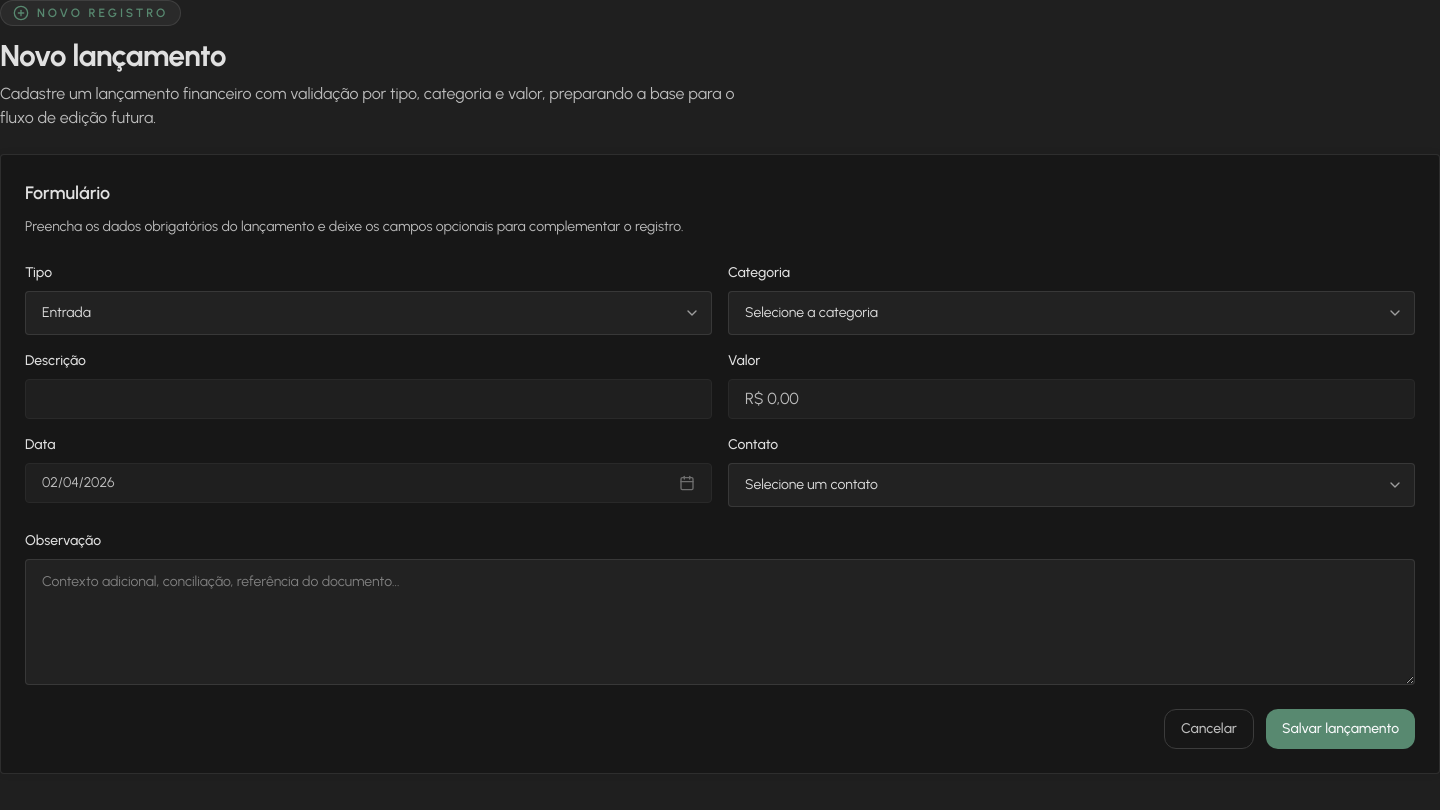
Test: <NewTransactionPage /> › exibe erros de validação quando o formulário é enviado incompleto
This screenshot has width=1440, height=810.
Click the button "Salvar lançamento": (1340, 729) x1=1266 y1=709 x2=1415 y2=749
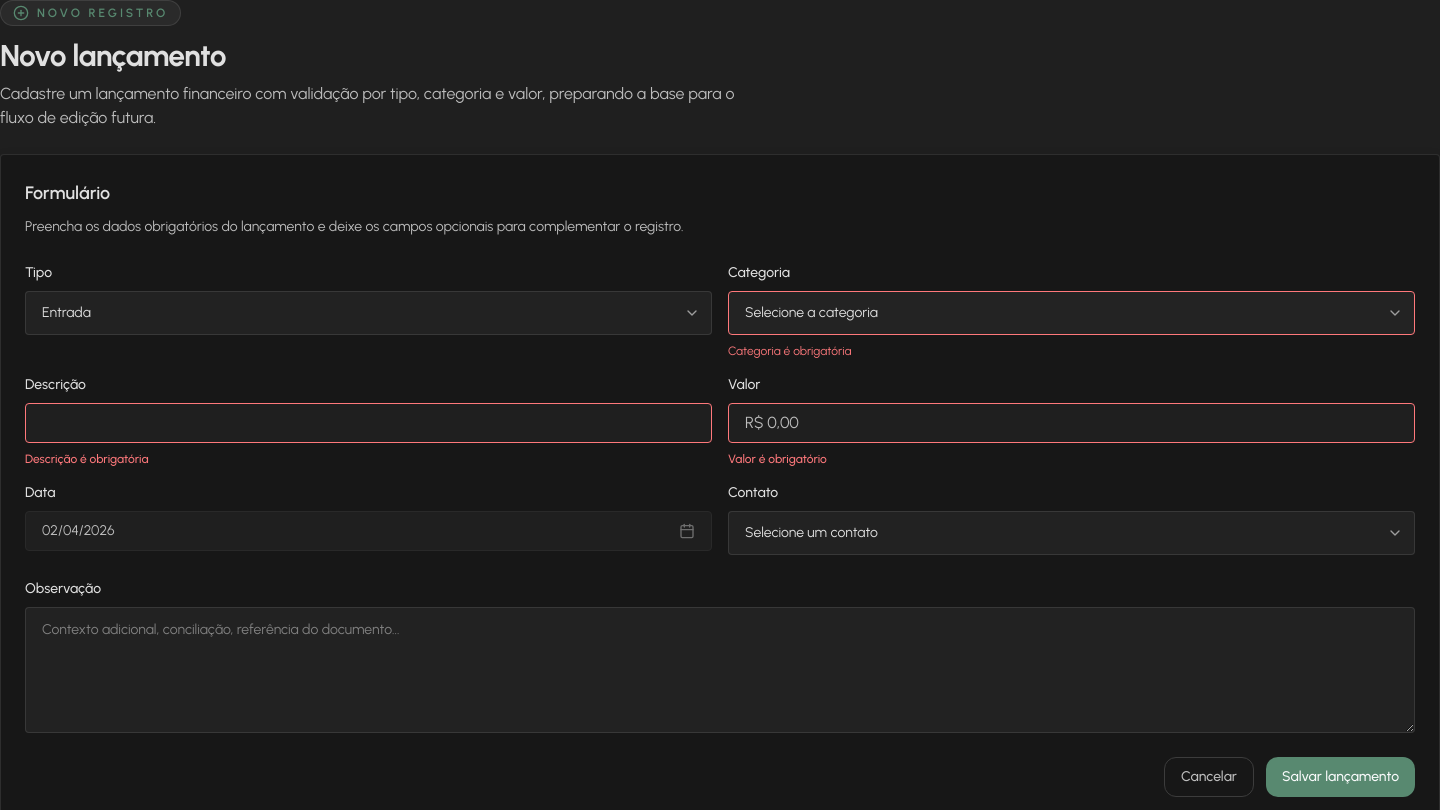
Check: the text "Descrição é obrigatória" is shown, box x1=25 y1=452 x2=148 y2=466
Check: the text "Valor é obrigatório" is shown, box x1=728 y1=452 x2=827 y2=466
Check: the text "Categoria é obrigatória" is shown, box x1=728 y1=344 x2=851 y2=358
